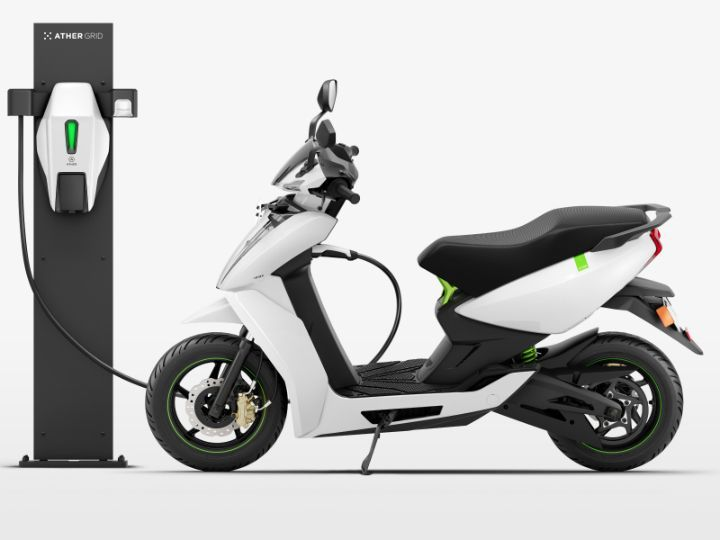Bike: (146, 133, 707, 481)
